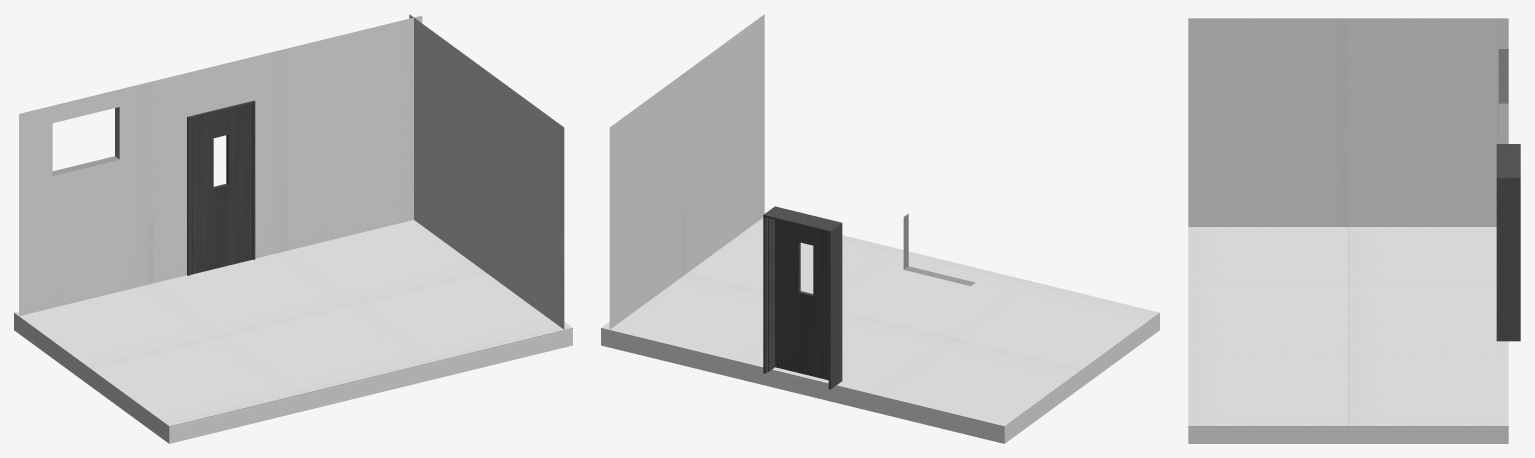
3 views of the same model, side by side, from view 1: azimuth 30°, elevation 25°; view 2: azimuth 150°, elevation 25°; view 3: azimuth 270°, elevation 25° (orthographic). The views are drawn at different scales.
Visible parts, largest first — view 1: CombinedMesh; view 2: CombinedMesh; view 3: CombinedMesh.
Part boxes in pixels (x1,y1,x2,y2): CombinedMesh: (14,14,572,443); CombinedMesh: (601,14,1159,443); CombinedMesh: (1188,18,1520,443).
Size of the model in its own units: 6 by 3.12 by 4.15.
1 material, 1 textured.
